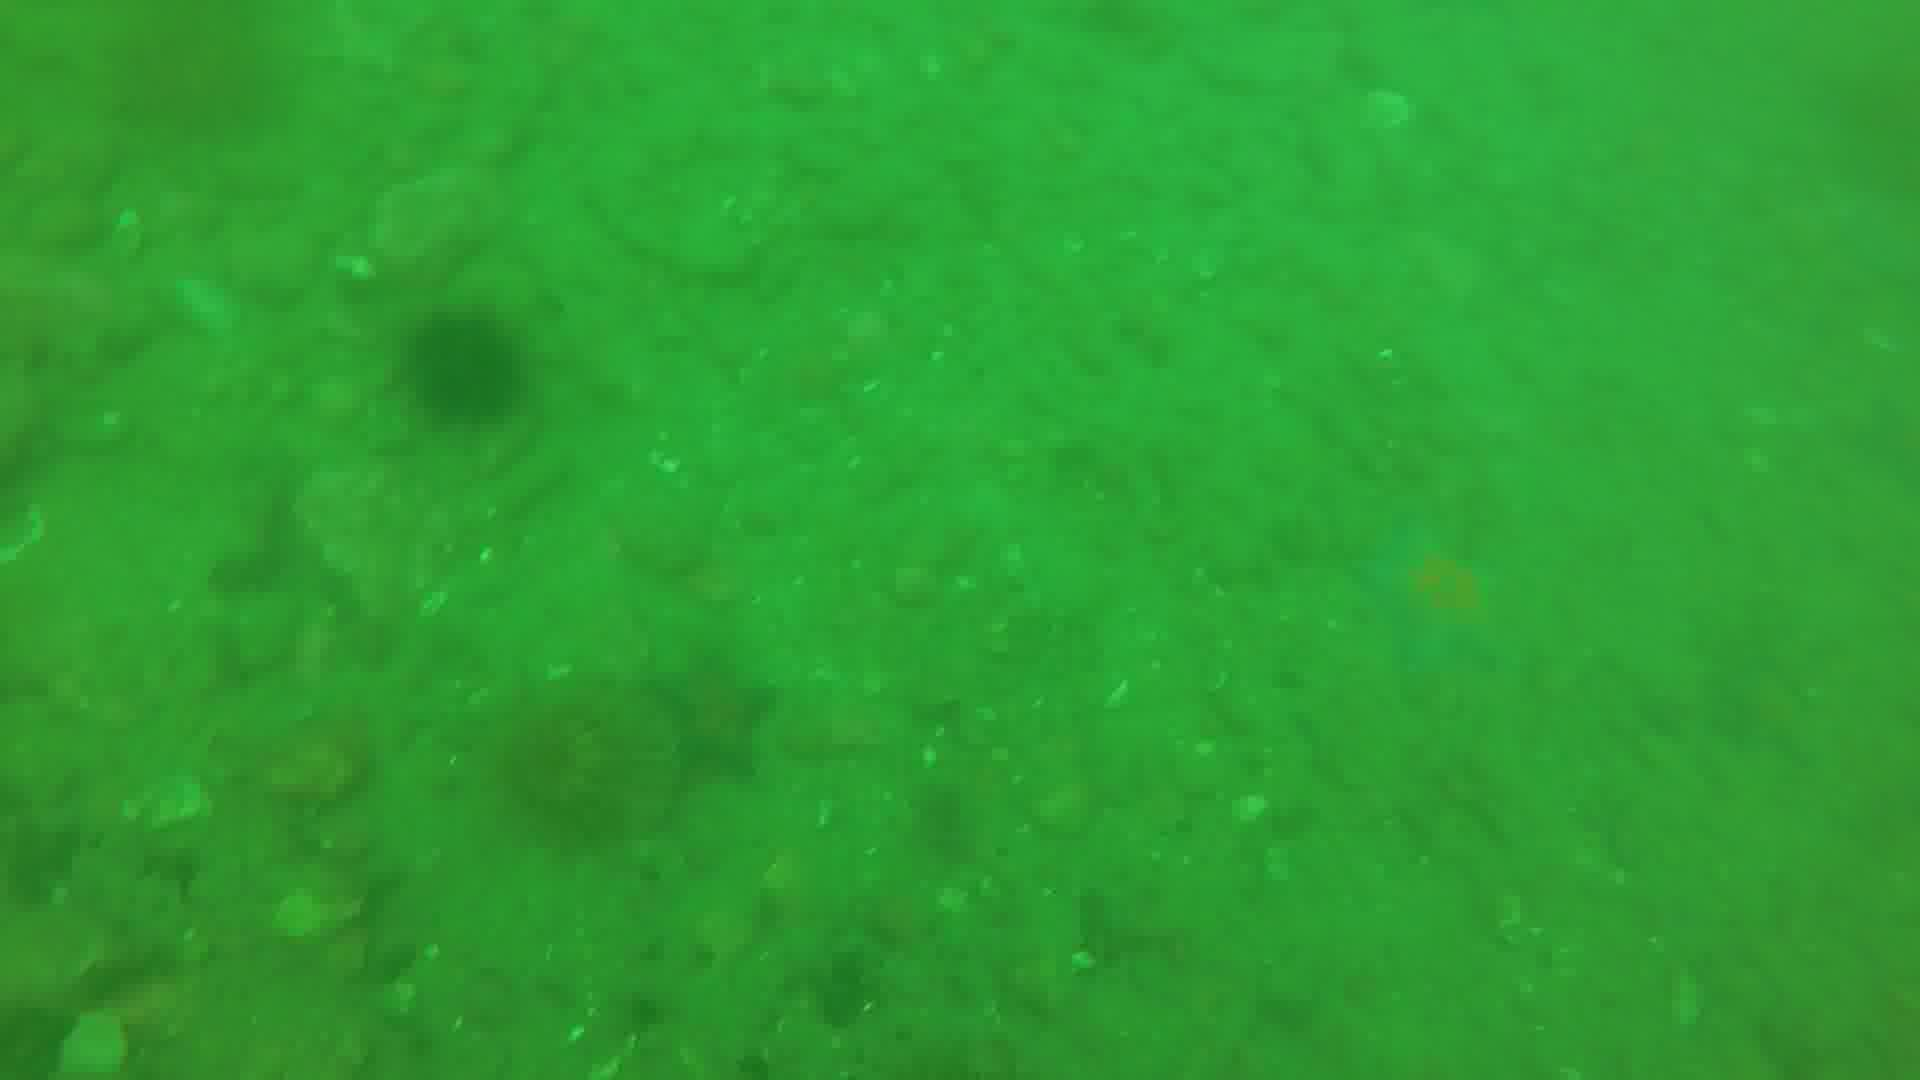echinus: (485, 683, 618, 847), (132, 9, 302, 133), (404, 310, 549, 419)
starfish: (647, 649, 783, 789)
